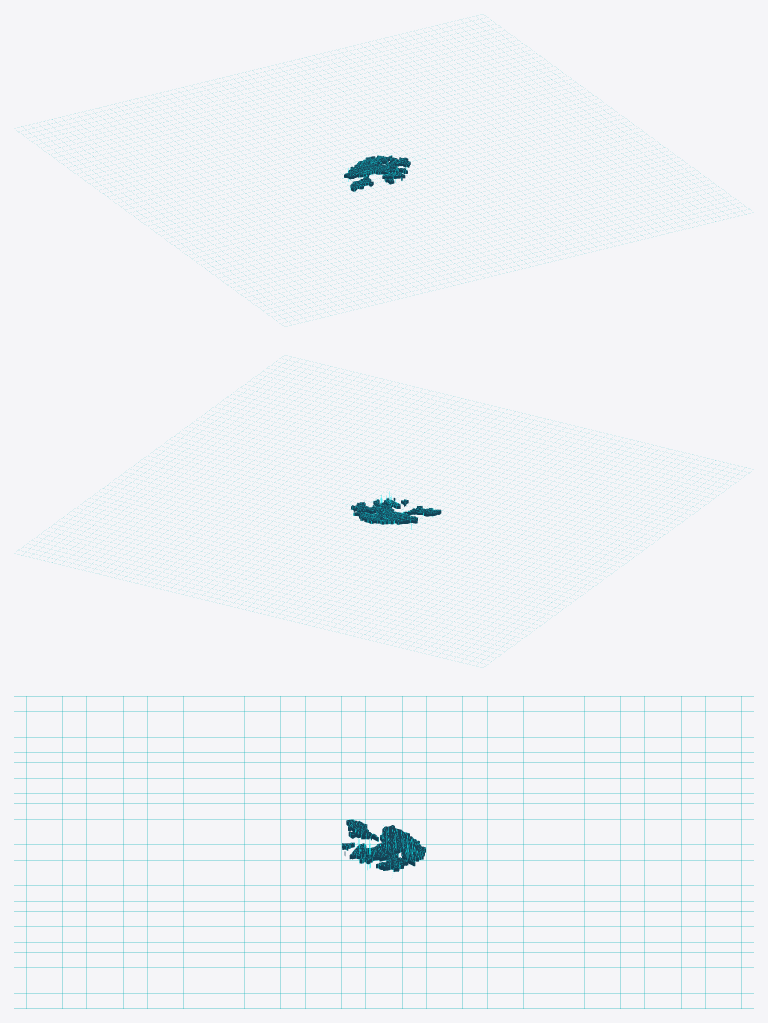
Rendered from hk_hologram_map.glb.
The picture shows the model from 3 angles, top to bottom: view 1: azimuth 30°, elevation 25°; view 2: azimuth 150°, elevation 25°; view 3: azimuth 270°, elevation 25°; orthographic projection. The views are drawn at different scales.
Visible parts, largest first — view 1: BaseGrid, Region_NewTerritories; view 2: BaseGrid, Region_NewTerritories; view 3: BaseGrid, Region_NewTerritories.
Boxes of the visible parts, x1,y1,x2,y2 form: BaseGrid: (21,19,746,321); Region_NewTerritories: (344,155,410,191); BaseGrid: (21,360,746,662); Region_NewTerritories: (351,499,441,529); BaseGrid: (14,696,753,1008); Region_NewTerritories: (346,819,425,871).
Size of the model in its own units: 60 by 3.42 by 60.
